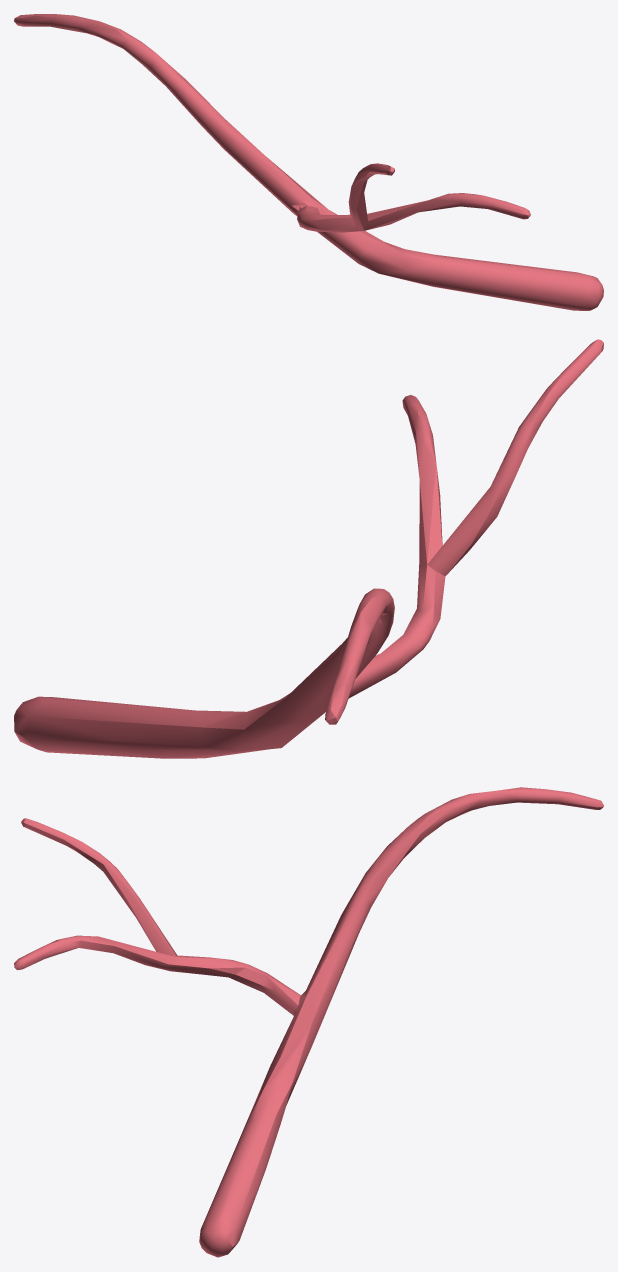
The model's file is fma70449_fj3107.glb.
3 views of the same model, one above another, from view 1: azimuth 30°, elevation 25°; view 2: azimuth 150°, elevation 25°; view 3: azimuth 270°, elevation 25° (orthographic). The views are drawn at different scales.
Visible parts, largest first — view 1: FMA70449_FJ3107; view 2: FMA70449_FJ3107; view 3: FMA70449_FJ3107.
Boxes of the visible parts, x1,y1,x2,y2 form: FMA70449_FJ3107: (14,14,603,310); FMA70449_FJ3107: (14,339,603,758); FMA70449_FJ3107: (14,787,603,1257).
Size of the model in its own units: 0.0229 by 0.0153 by 0.0281.
